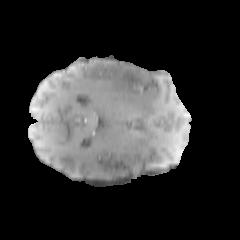glioma: (77, 59, 157, 104)
